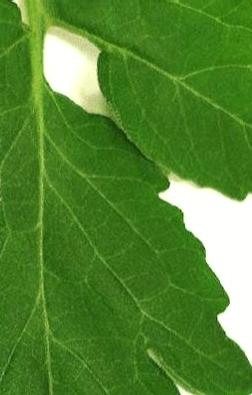Tomato leaf: (0, 0, 221, 395), (43, 0, 252, 220)
